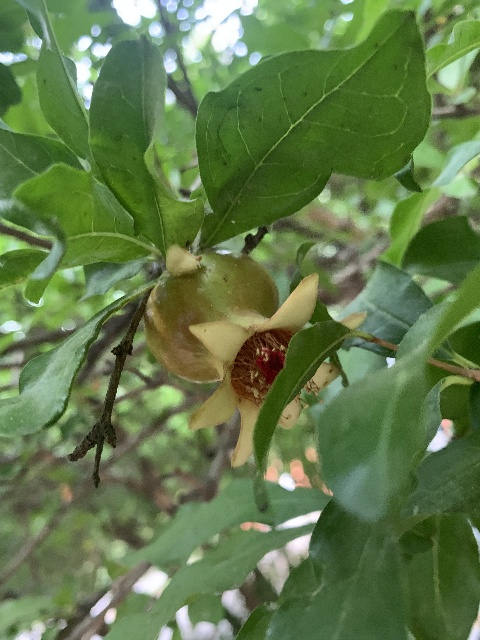early-fruit: (144, 252, 383, 469)
